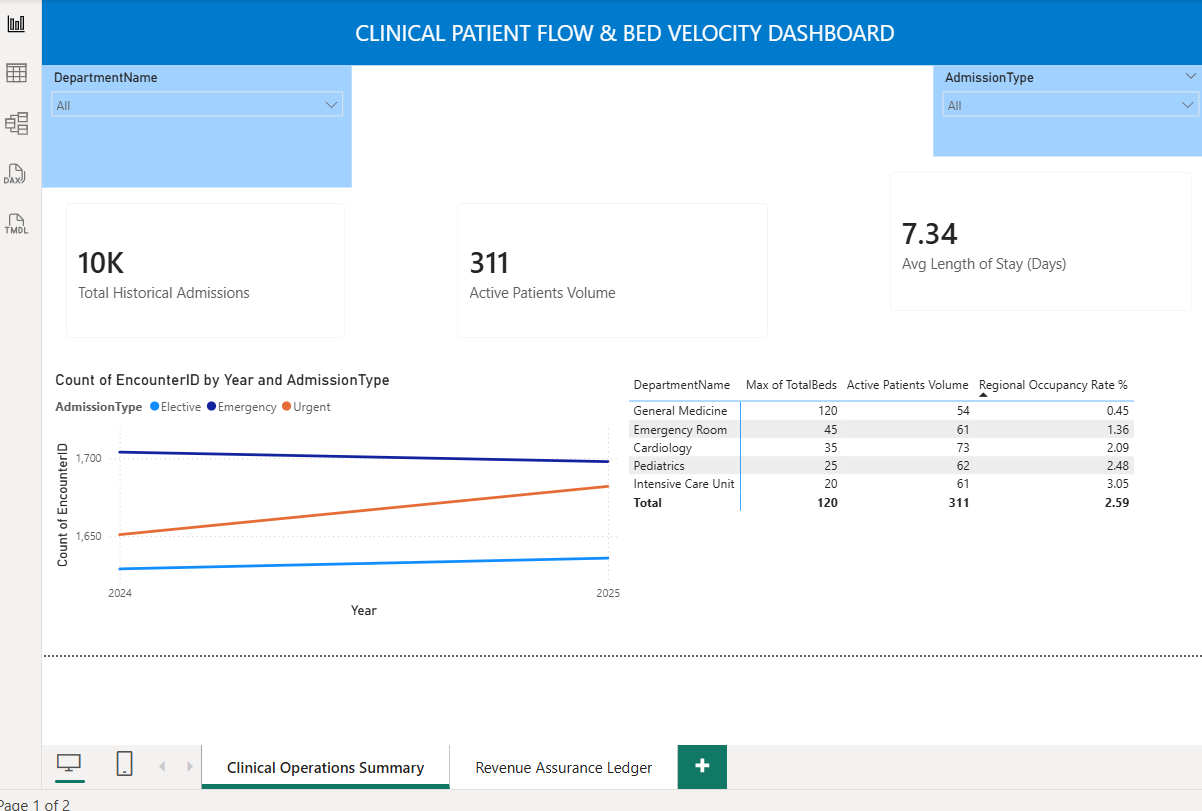

The page's visual inventory and layout, read from the dashboard file:
{"tool":"powerbi","page":{"name":"Clinical Operations Summary","canvas":[1280,720],"ordinal":0},"visuals":[{"type":"shape","box":[0,0,1280.3,72.7],"z":0},{"type":"slicer","fields":{"Values":["Dim_Departments.DepartmentName"]},"box":[0,72.7,340.3,134.5],"z":1000},{"type":"slicer","fields":{"Values":["Fact_Encounters.AdmissionType"]},"box":[978.4,72.7,301.9,134.5],"z":2000},{"type":"cardVisual","fields":{"Data":["CountNonNull(Fact_Encounters.EncounterID)"]},"box":[9.6,207.2,340.3,182.5],"z":3000},{"type":"cardVisual","fields":{"Data":["_Measures.Active Patients Volume"]},"box":[439.1,207.2,376,182.5],"z":4000},{"type":"cardVisual","fields":{"Data":["Avg(Fact_Encounters.LengthOfStayDays)"]},"box":[913.9,172.9,366.4,188],"z":5000},{"type":"lineChart","fields":{"Category":["Fact_Encounters.AdmitDateTime.Variation.Date Hierarchy.Year","Fact_Encounters.AdmitDateTime.Variation.Date Hierarchy.Month"],"Y":["CountNonNull(Fact_Encounters.EncounterID)"],"Series":["Fact_Encounters.AdmissionType"]},"box":[9.6,407.5,629.8,277.2],"z":6000},{"type":"pivotTable","fields":{"Rows":["Dim_Departments.DepartmentName"],"Values":["Max(Dim_Departments.TotalBeds)","_Measures.Active Patients Volume","_Measures.Regional Occupancy Rate %"]},"box":[639.5,407.5,631.2,277.2],"z":7000}]}

Visuals, with their boxes on the page's 1280x720 design canvas (x1, y1, x2, y2). These are canvas units, not pixel positions in the 1202x811 screenshot, which may show the page scaled, cropped or inside an application window:
shape: select_region(0, 0, 1280, 73)
slicer - Dim_Departments.DepartmentName: select_region(0, 73, 340, 207)
slicer - Fact_Encounters.AdmissionType: select_region(978, 73, 1280, 207)
cardVisual - CountNonNull(Fact_Encounters.EncounterID): select_region(10, 207, 350, 390)
cardVisual - _Measures.Active Patients Volume: select_region(439, 207, 815, 390)
cardVisual - Avg(Fact_Encounters.LengthOfStayDays): select_region(914, 173, 1280, 361)
lineChart - Fact_Encounters.AdmitDateTime.Variation.Date Hierarchy.Year x Fact_Encounters.AdmitDateTime.Variation.Date Hierarchy.Month: select_region(10, 408, 639, 685)
pivotTable - Dim_Departments.DepartmentName x Max(Dim_Departments.TotalBeds): select_region(640, 408, 1271, 685)
